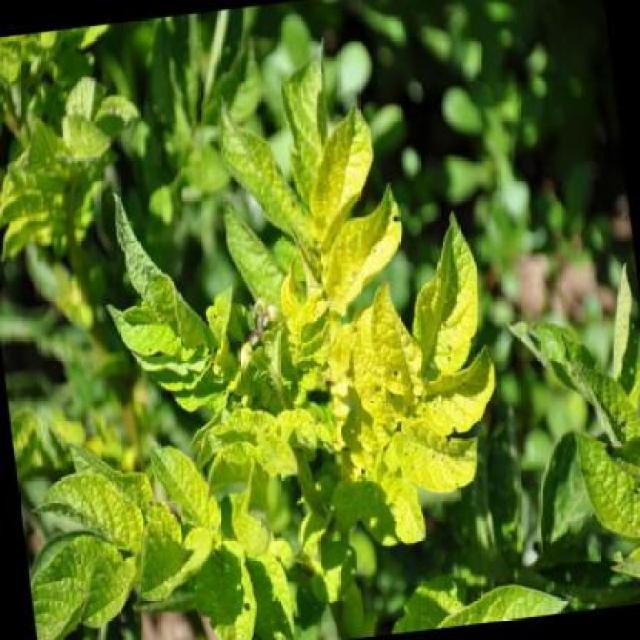Healthy Leaf: (394, 214, 504, 368), (141, 415, 237, 587), (234, 334, 334, 492), (181, 392, 304, 516), (32, 456, 156, 575), (314, 188, 418, 326), (290, 99, 387, 246), (363, 401, 488, 505), (99, 278, 204, 384), (359, 265, 426, 418)
